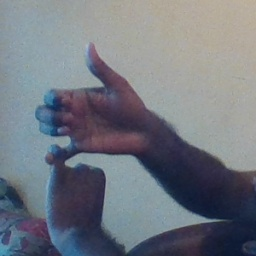S: (32, 38, 146, 224)
